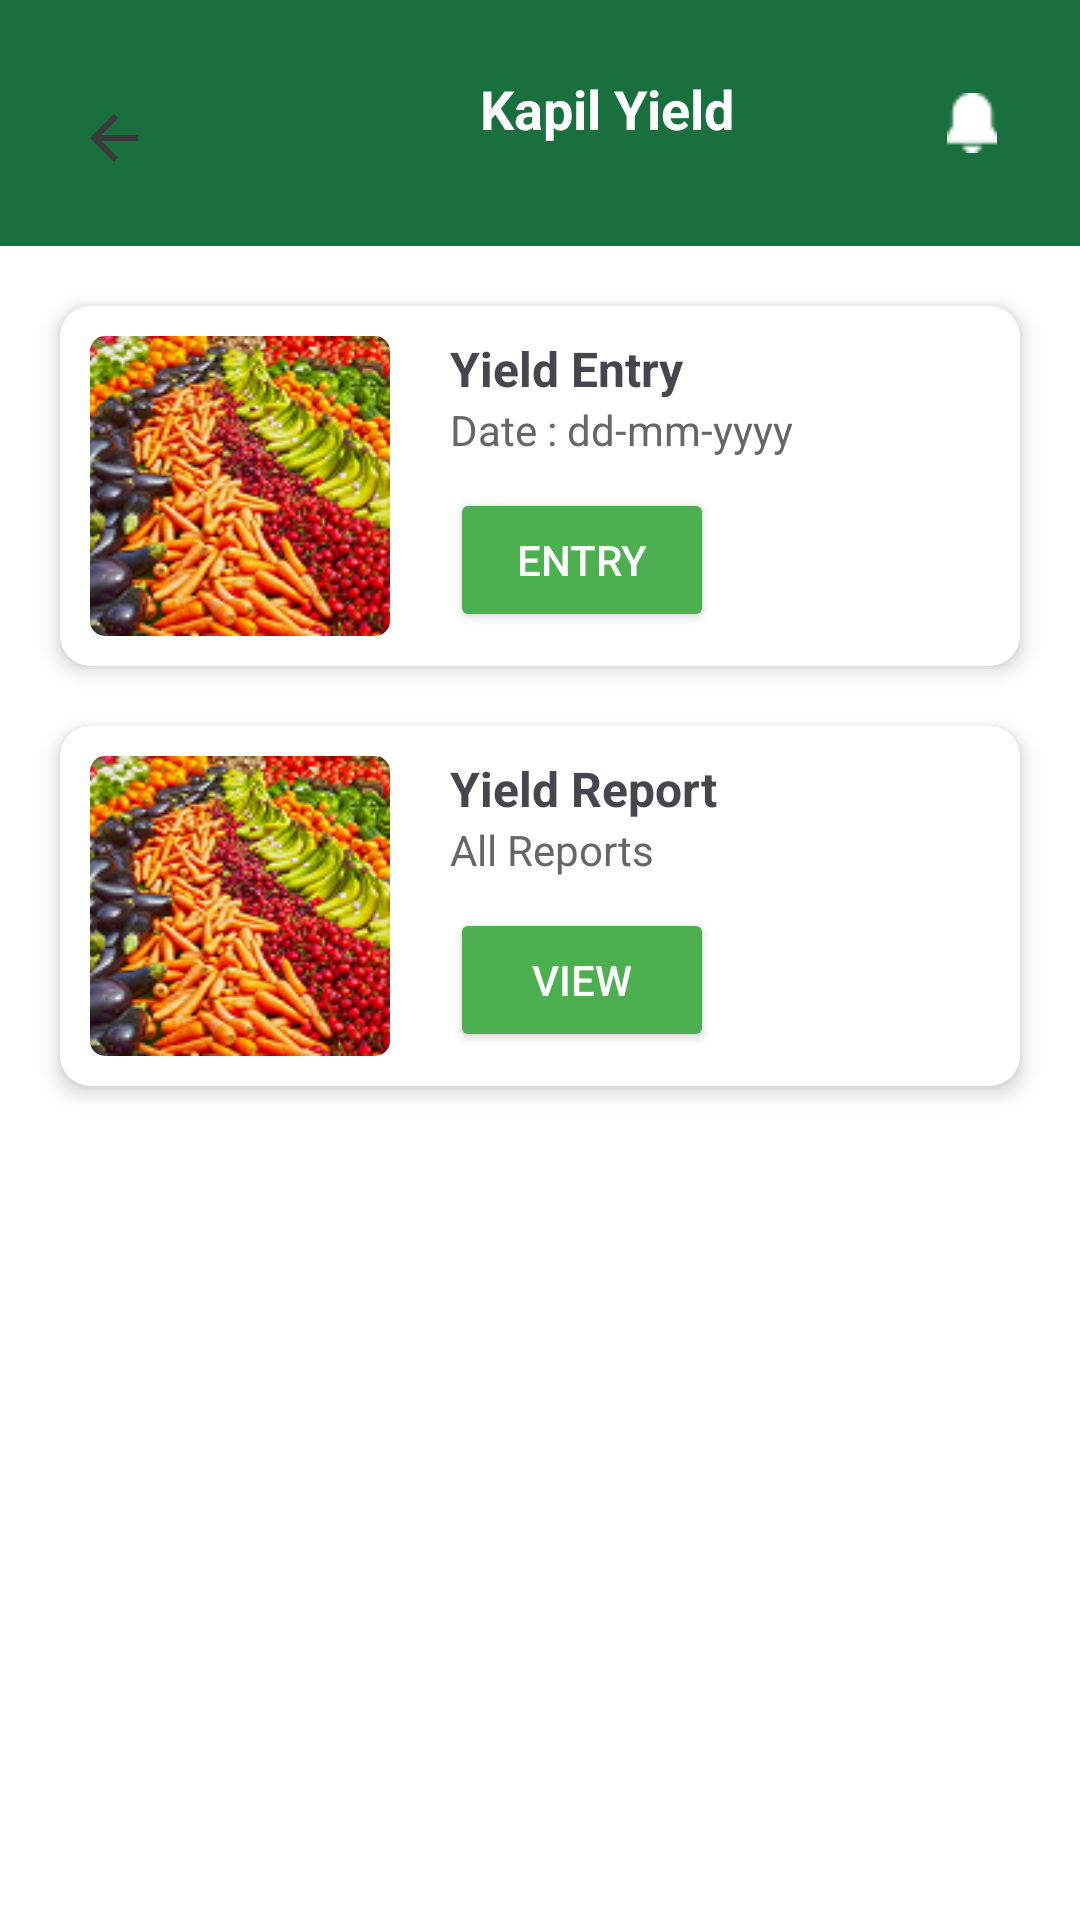

Where to tap for icons on this 1080 × 1920 app screen, as (x=x, y=y):
Back: (x=114, y=138)
market: (x=240, y=486), (x=240, y=906)
Notifications: (x=972, y=123)
